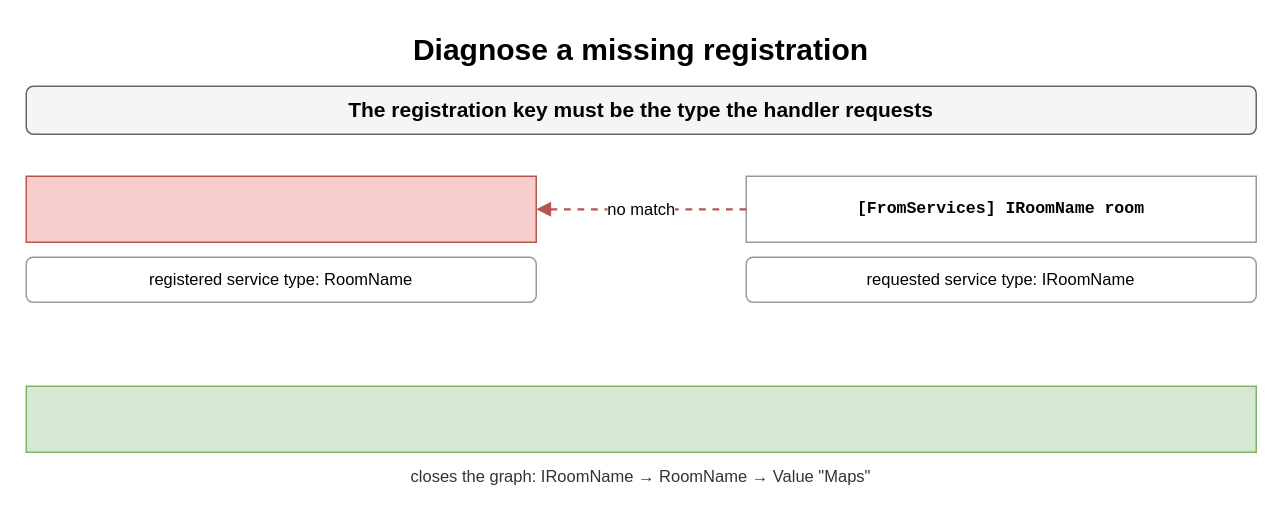
This 1283x516 diagram has some shape labels left out. Each missing label, with the box of its shape:
AddSingleton(new RoomName()): (25, 175, 536, 242)
builder.Services.AddSingleton<IRoomName, RoomName>() before Build(): (25, 385, 1256, 452)
